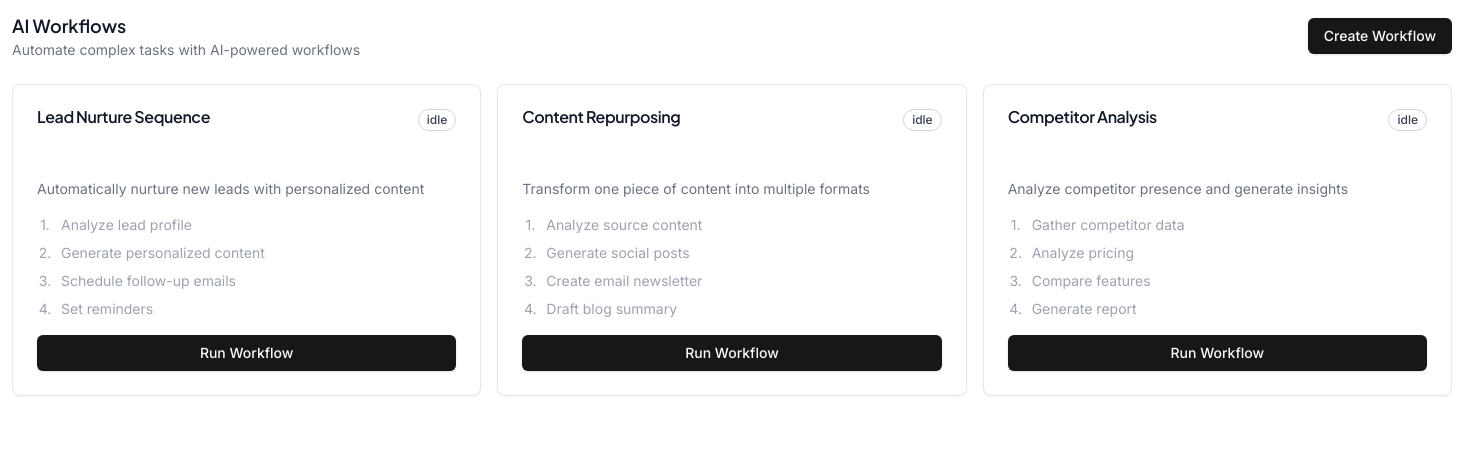
AIWorkflowPanel › shows progress bar for running workflow
The image size is (1464, 453).
// Find the first workflow's run button
Click the button "Run Workflow" below "Set reminders" at (247, 353), box [37,335,456,371]
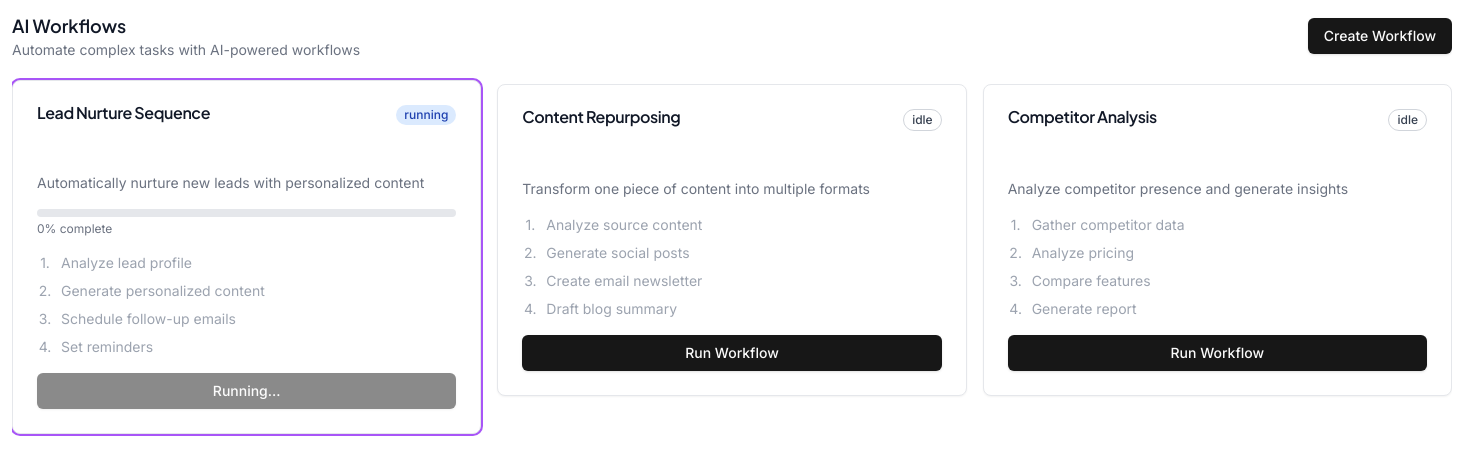
Check: the text "0% complete" is shown, box [37,221,112,236]
